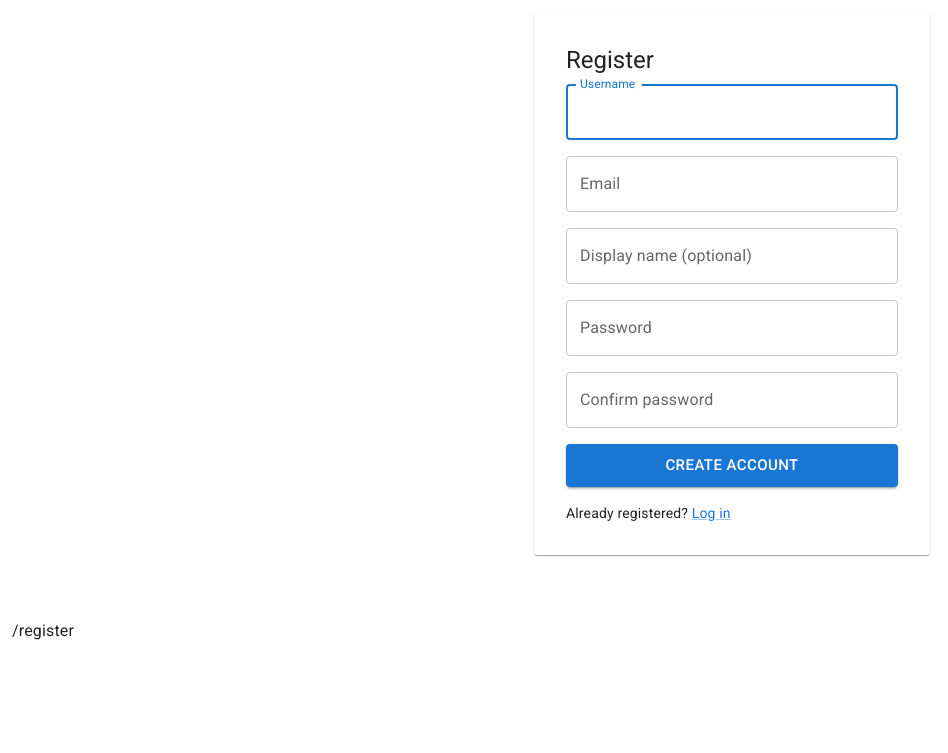
Test: RegisterPage › checks every field before sending anything
Check: the heading "Register" is shown, box [566,46,654,74]
Type "ab" into the field labelled "Username". click: (732,112)
box: [566,84,898,140]
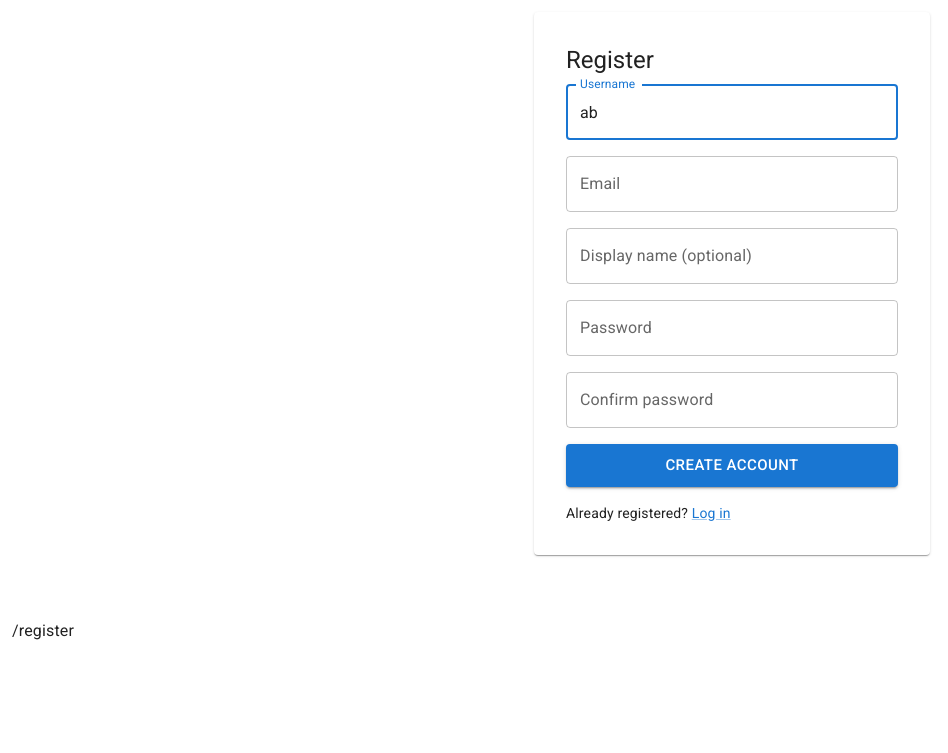
Type "nope" into the field labelled "Email". click: (732,184)
box: [566,156,898,212]
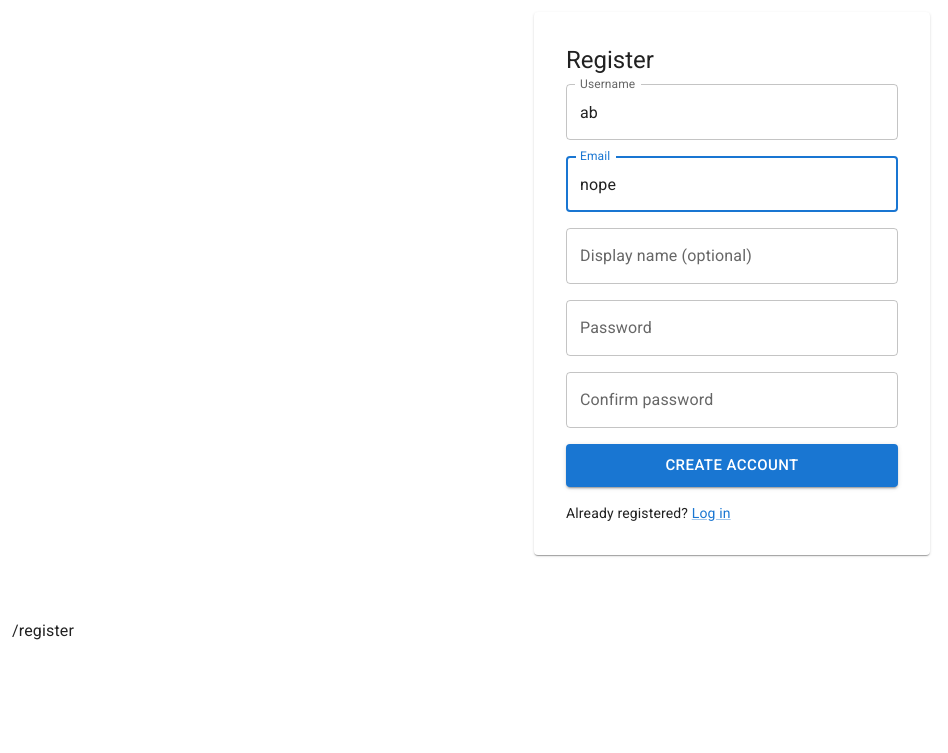
Type "123" into the password field labelled "Password". click: (732,328)
box: [566,300,898,356]
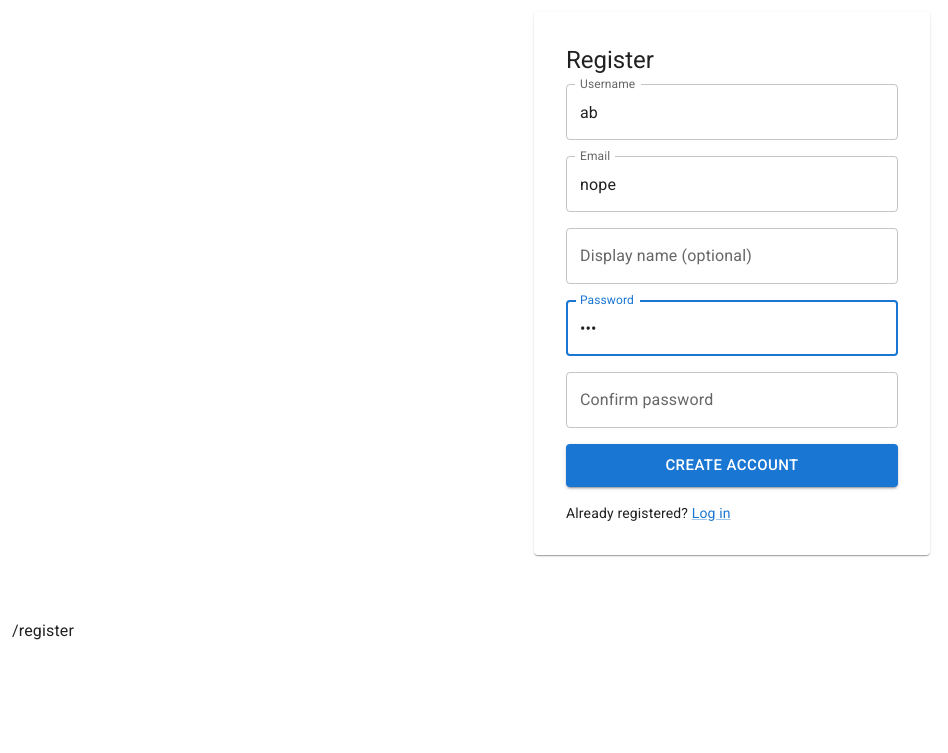
Type "1234" into the password field labelled "Confirm password". click: (732,400)
box: [566,372,898,428]
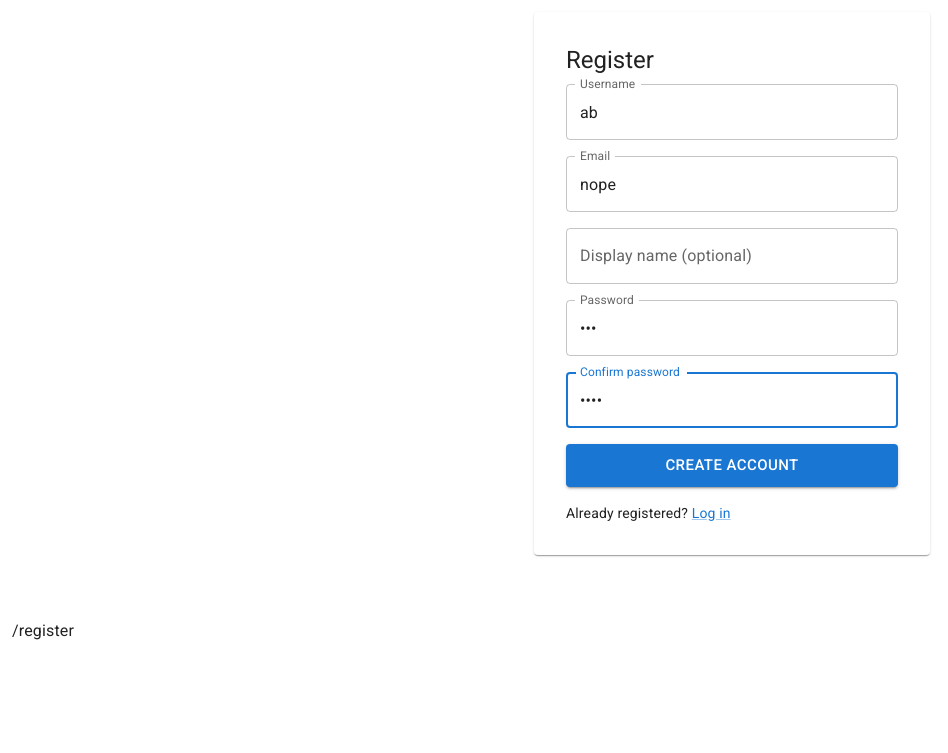
Click the button "Create account". click: (732,466)
box: [566,444,898,487]
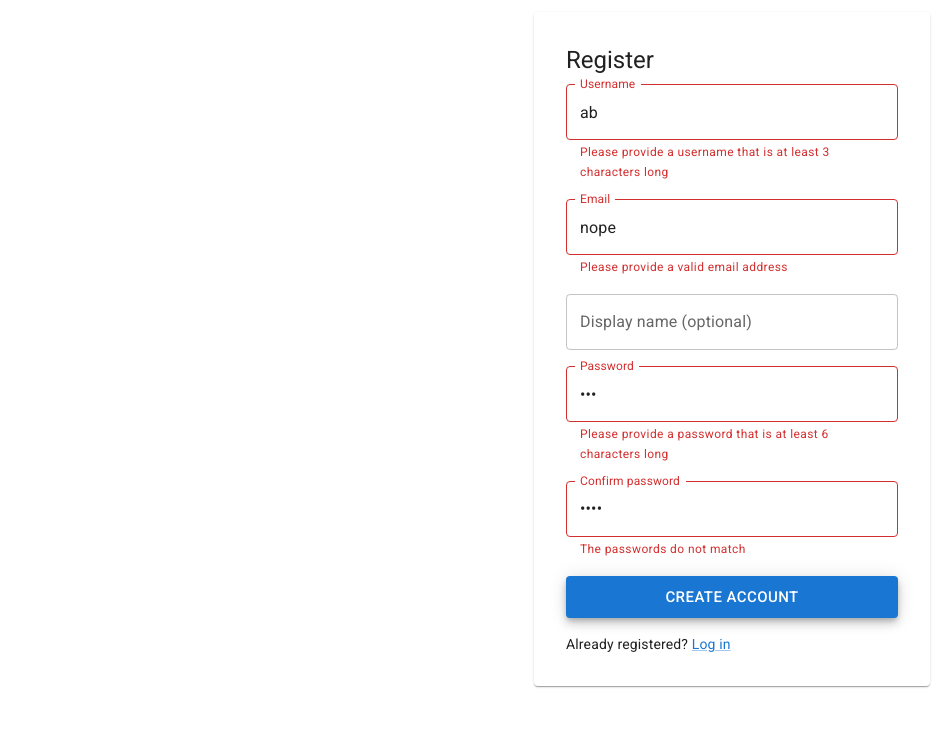
Check: the text "Please provide a username that is at least 3 characters long" is shown, box [580,145,830,179]
Check: the text "Please provide a valid email address" is shown, box [580,260,788,274]
Check: the text "Please provide a password that is at least 6 characters long" is shown, box [580,427,829,461]
